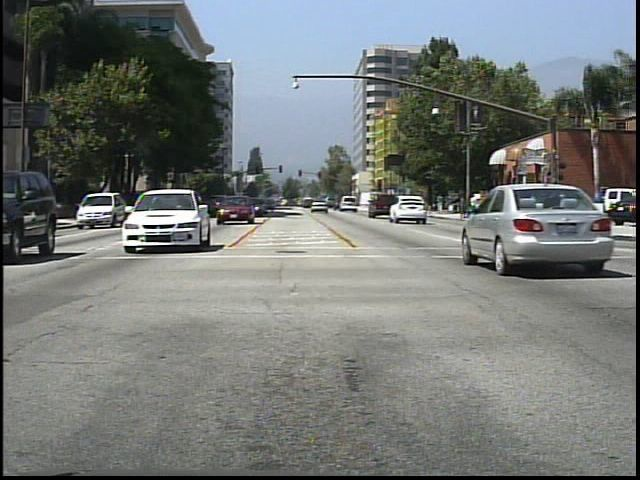person: (469, 191, 481, 220), (436, 191, 447, 215)
